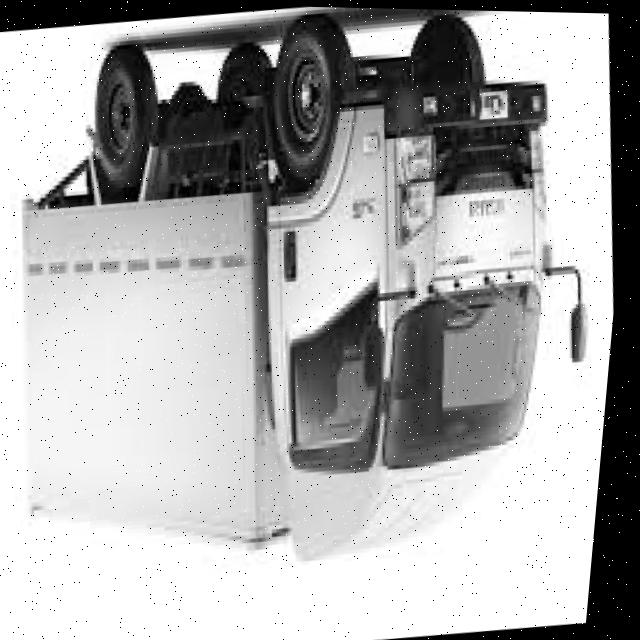truck: (214, 45, 638, 585)
